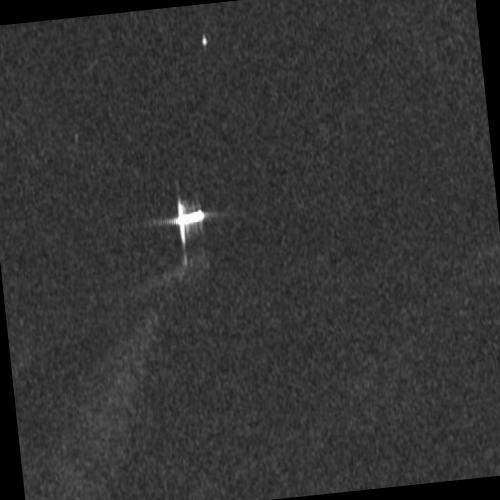ship: (176, 209, 205, 227)
